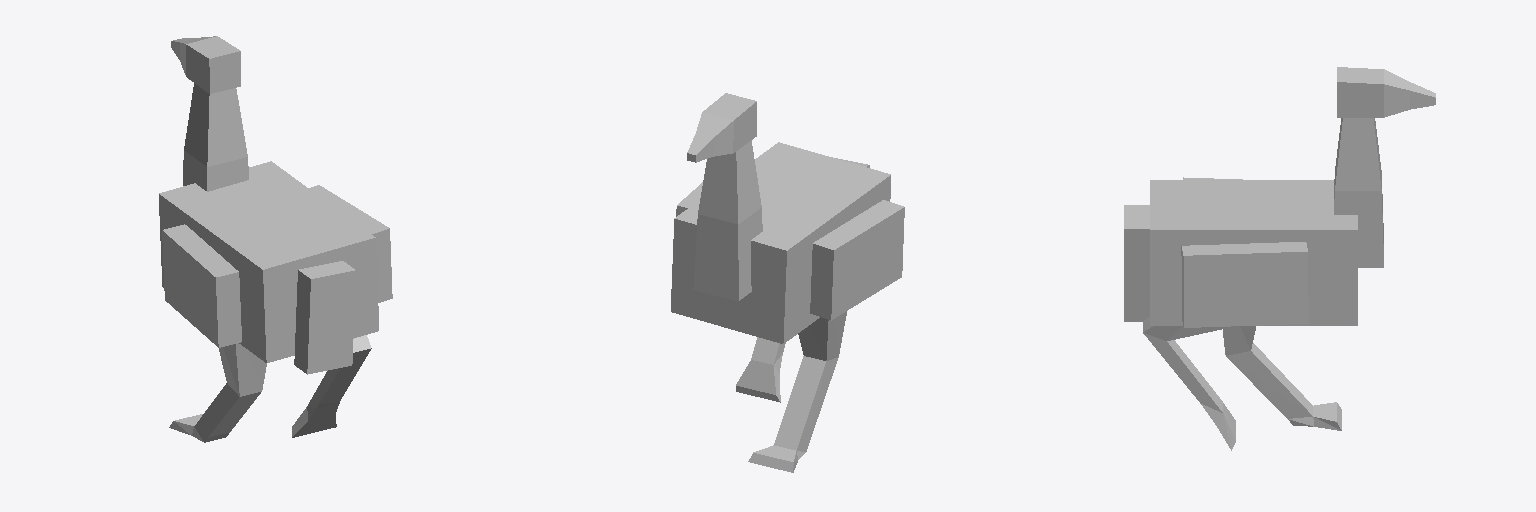
Rendered from Ostrich_000213.obj.
3 views of the same model, side by side, from view 1: azimuth 30°, elevation 25°; view 2: azimuth 150°, elevation 25°; view 3: azimuth 270°, elevation 25° (orthographic).
Visible parts, largest first — view 1: Cube_Cube.001; view 2: Cube_Cube.001; view 3: Cube_Cube.001.
Boxes of the visible parts, x1=… form: Cube_Cube.001: x1=159, y1=36, x2=392, y2=442; Cube_Cube.001: x1=671, y1=93, x2=904, y2=472; Cube_Cube.001: x1=1124, y1=67, x2=1435, y2=450.
Size of the model in its own units: 0.7844 by 1.53 by 1.2.